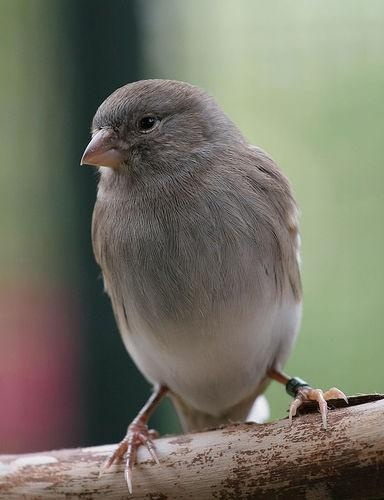bird: (80, 74, 357, 475)
